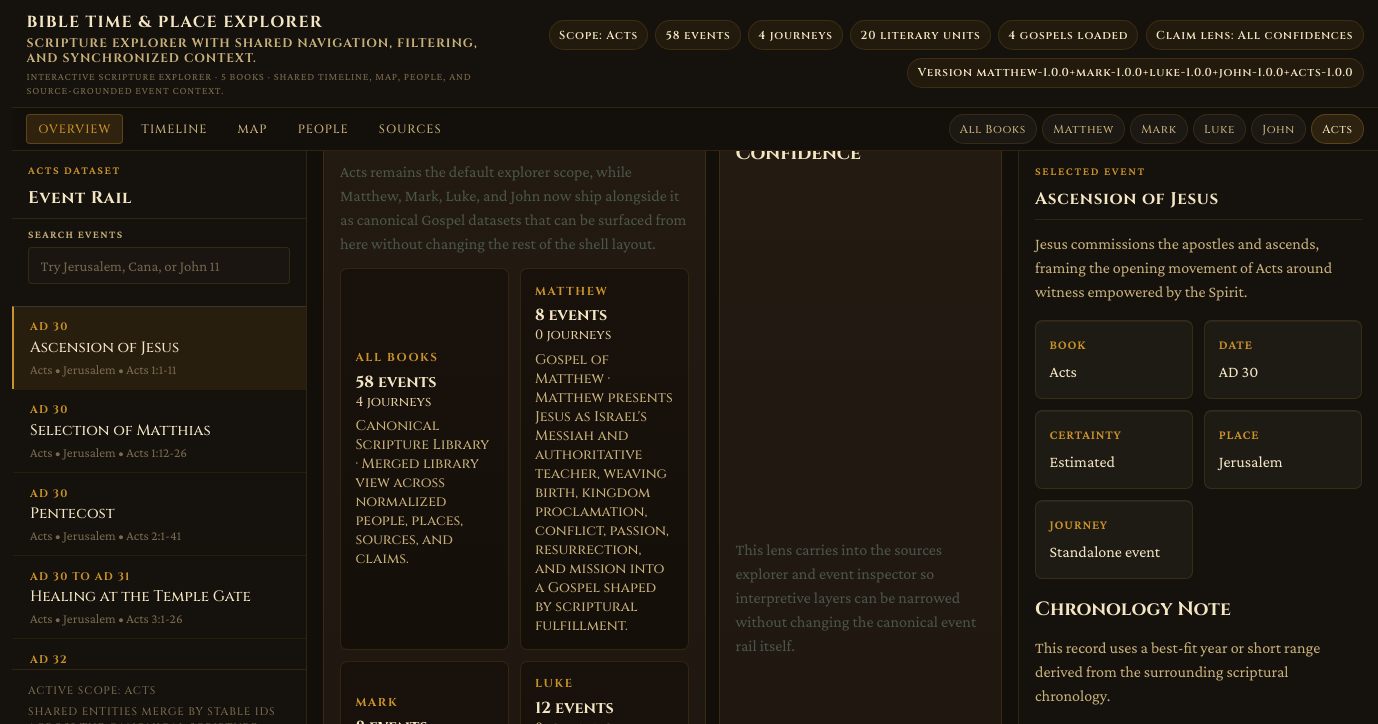
Test: App › surfaces synoptic continuity cues and lets cross-book parallel links retarget the scope
(page scrolled)
Click the button with aria-label "focus matthew". click: (604, 459)
box: [520,268,689,650]
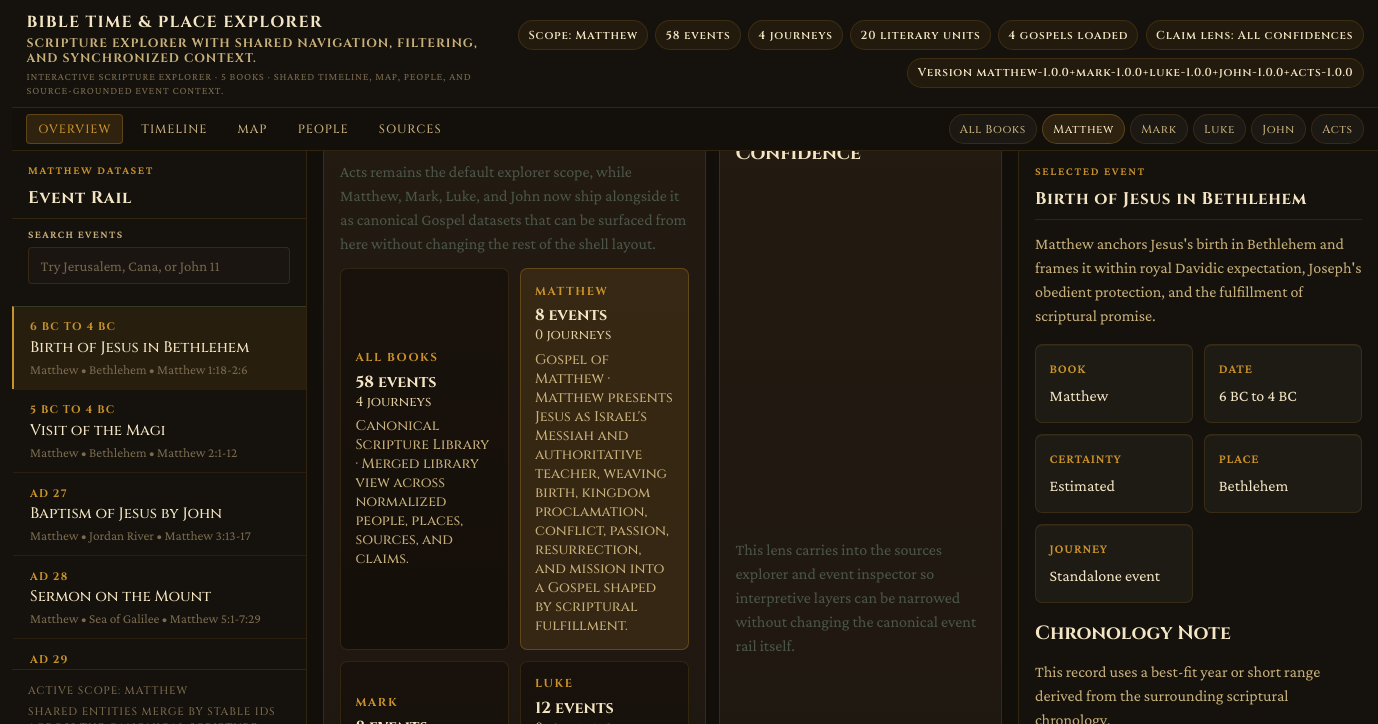
Click the button "Baptism of Jesus by John". click: (159, 514)
box: [12,472,306,555]
(page scrolled)
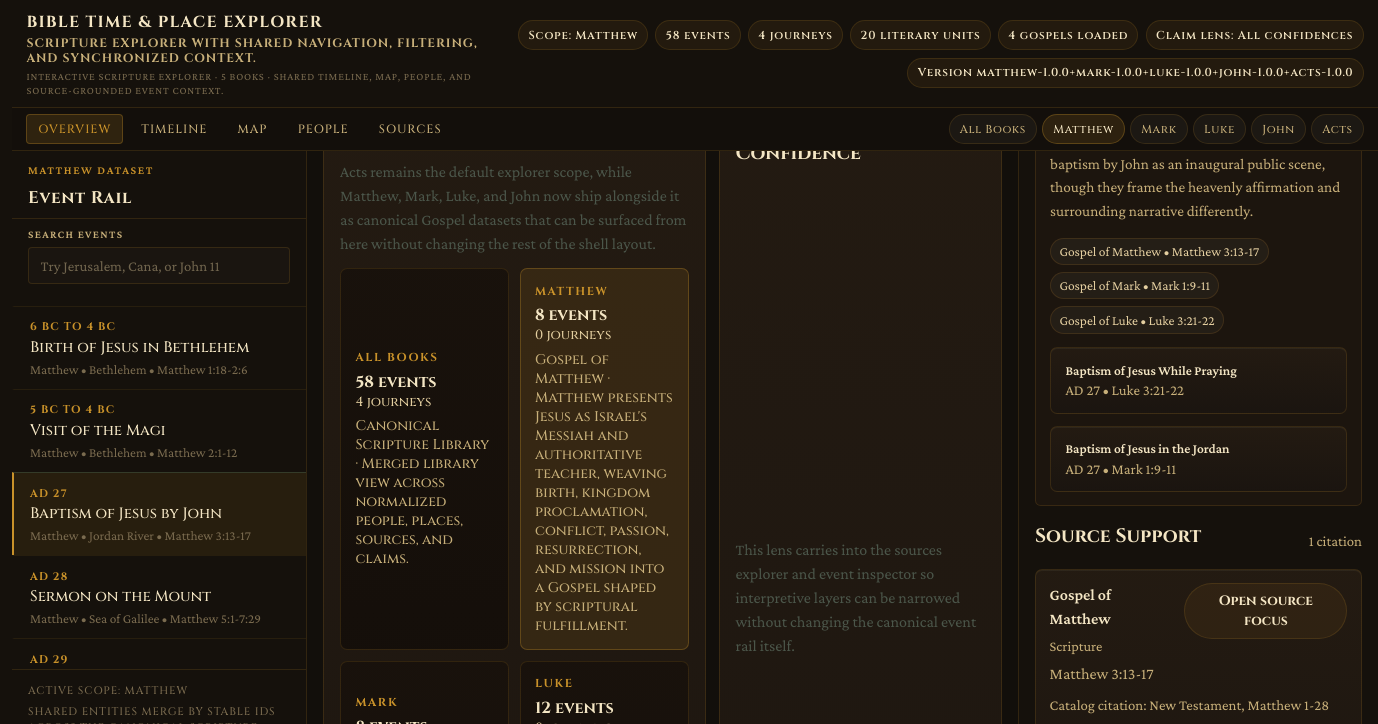
expect the text "matthew, mark, and luke each preserve jesus's baptism by john as an inaugural public scene" is shown: met, box [1050,151,1340,219]
expect the button "Baptism of Jesus in the Jordan AD 27 • Mark 1:9-11" is shown: met
expect the button "Baptism of Jesus While Praying AD 27 • Luke 3:21-22" is shown: met, box [1050,347,1347,414]
Click the button "Baptism of Jesus in the Jordan AD 27 • Mark 1:9-11". click: (1198, 459)
box: [1050,426,1347,492]
(page scrolled)
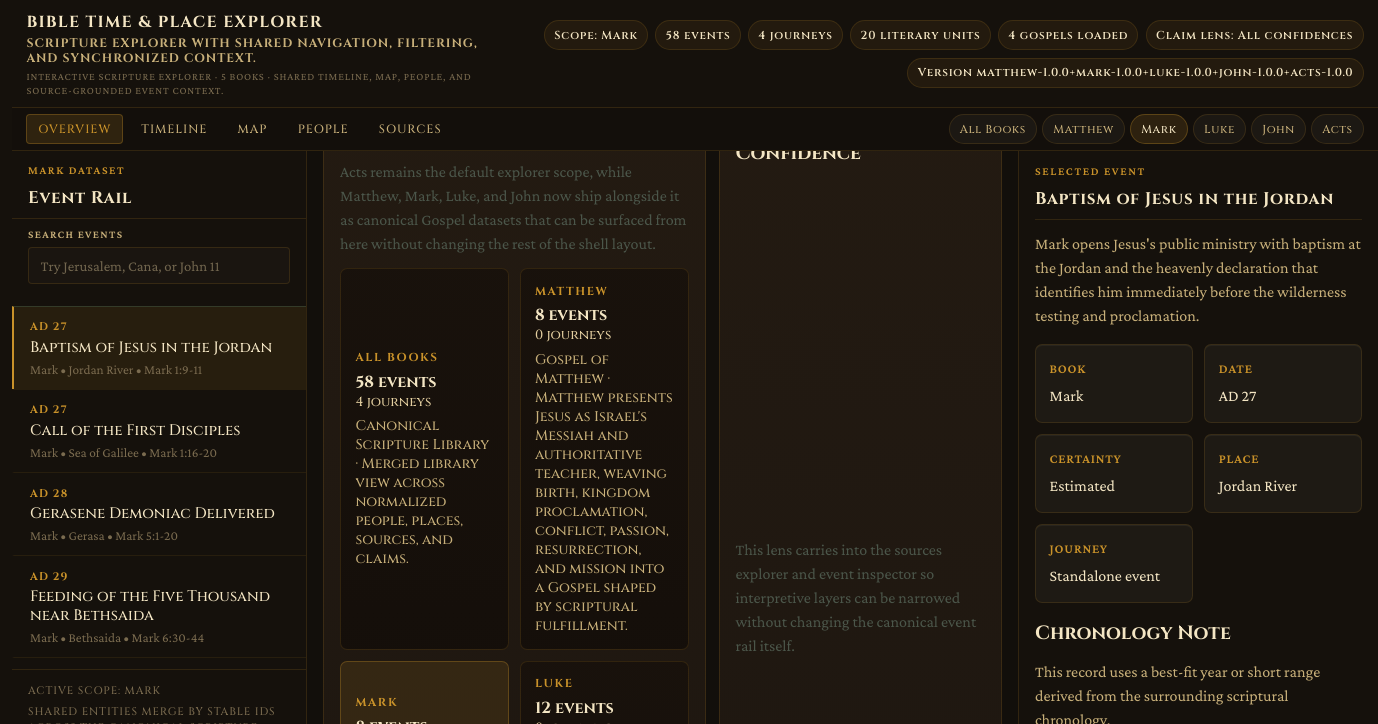
expect the text "Scope: Mark" is shown: met, box [544,20,648,50]
expect the heading "Baptism of Jesus in the Jordan" is shown: met, box [1035,186,1362,212]
